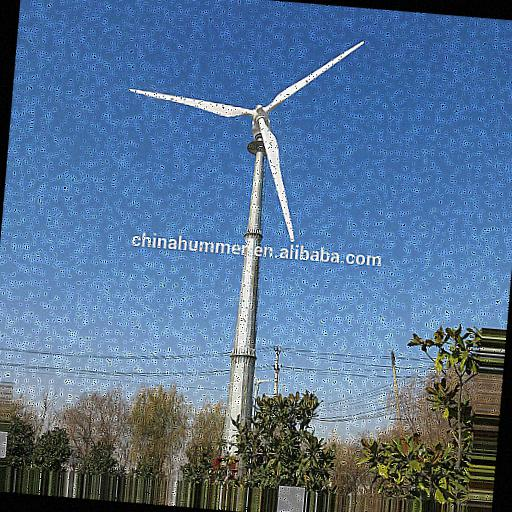wind turbine: (127, 38, 368, 435)
